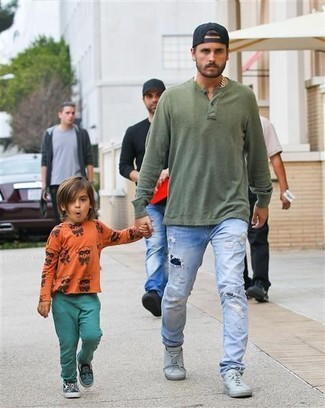Person: (160, 22, 273, 406), (37, 176, 136, 399), (41, 101, 93, 181)
